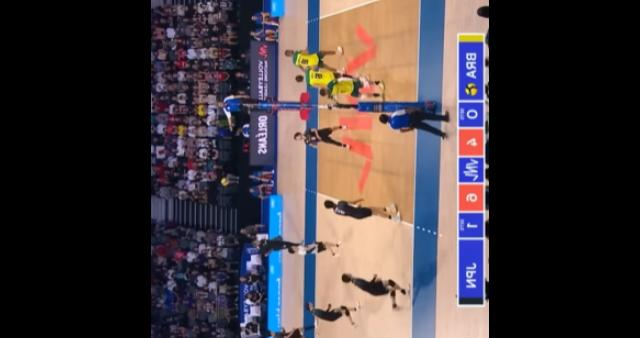Levantador: (319, 65, 396, 109), (288, 121, 354, 155)
Libero: (282, 234, 346, 262)
bola: (216, 172, 234, 189)
